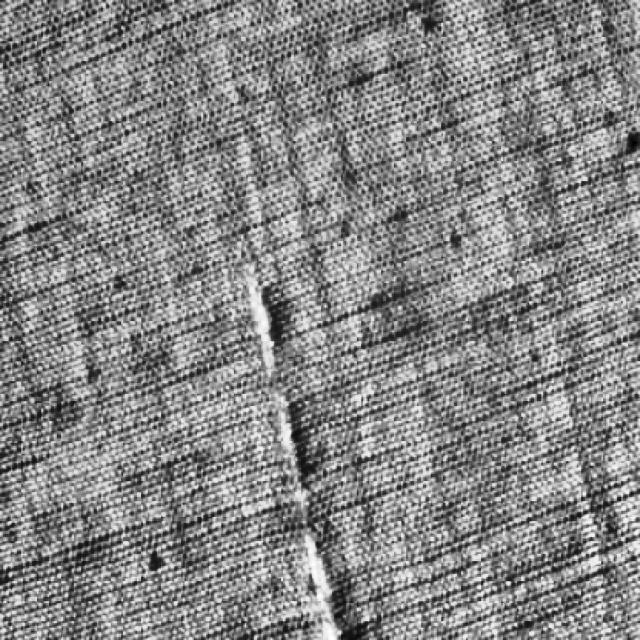thread_error: (231, 221, 358, 640)
